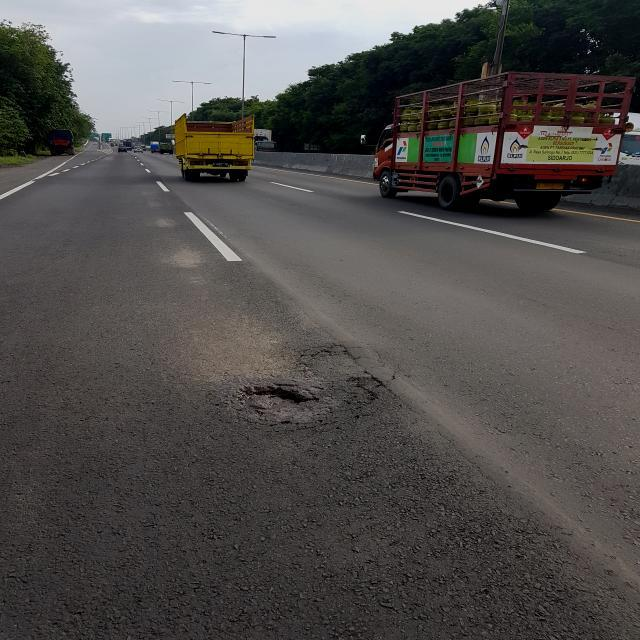Buraco: (233, 381, 322, 418)
